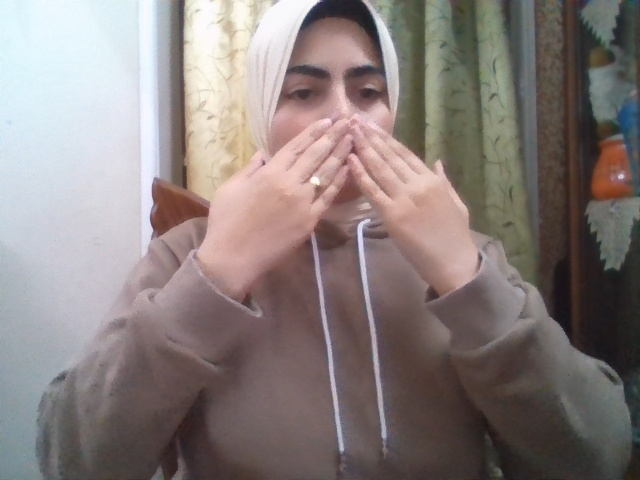thanks: (208, 113, 470, 280)
